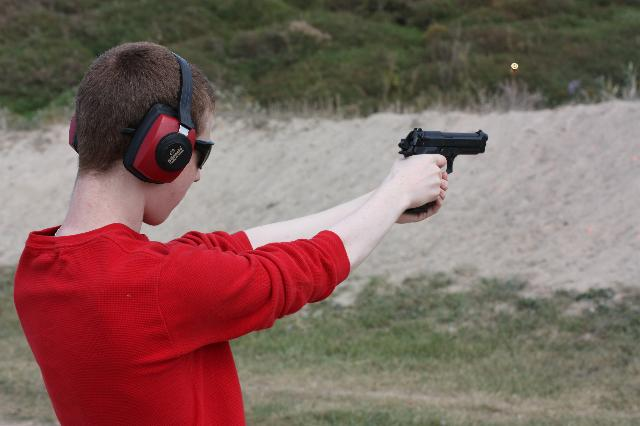handgun: (396, 125, 492, 218)
